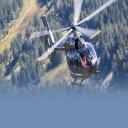helicopter: (33, 1, 116, 97)
